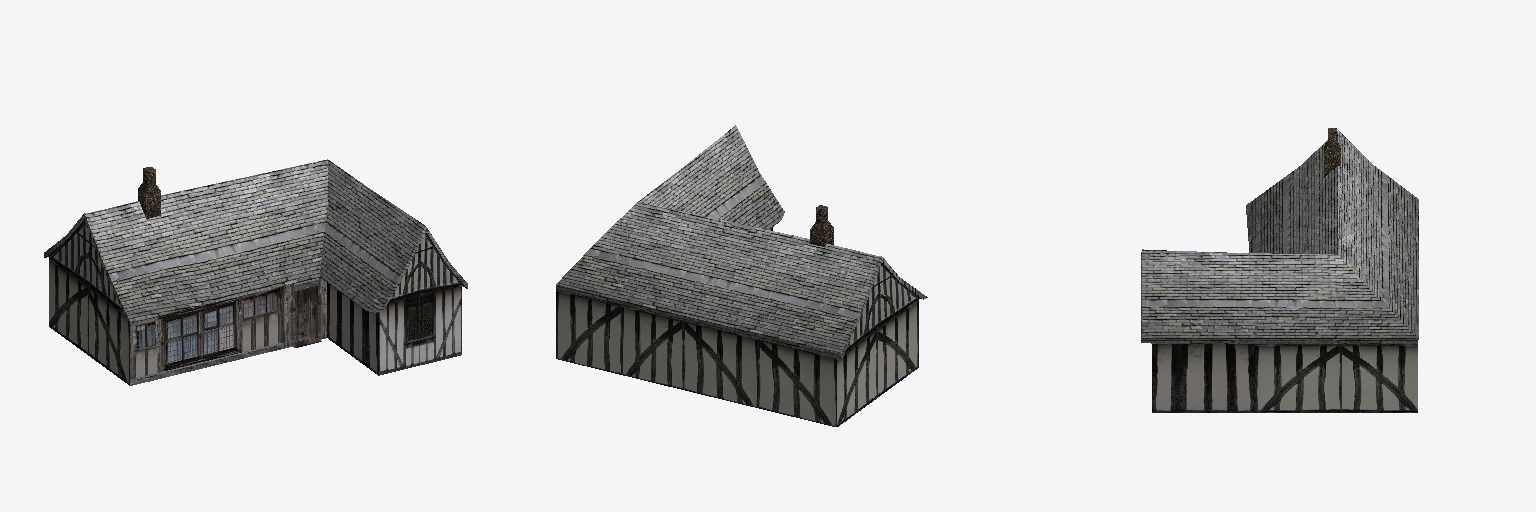
3 views of the same model, side by side, from view 1: azimuth 30°, elevation 25°; view 2: azimuth 150°, elevation 25°; view 3: azimuth 270°, elevation 25° (orthographic).
Parts seen in each view (by area): view 1: MEDHOUSE_6; view 2: MEDHOUSE_6; view 3: MEDHOUSE_6.
Boxes of the visible parts, <box> form: MEDHOUSE_6: <box>44,159,467,385</box>; MEDHOUSE_6: <box>556,125,927,426</box>; MEDHOUSE_6: <box>1141,128,1418,412</box>.
Bounding box in the file's own units: 469 × 274 × 394.
Materials: 1 (1 with a texture image).